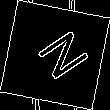N_SW: (23, 24, 87, 86)
